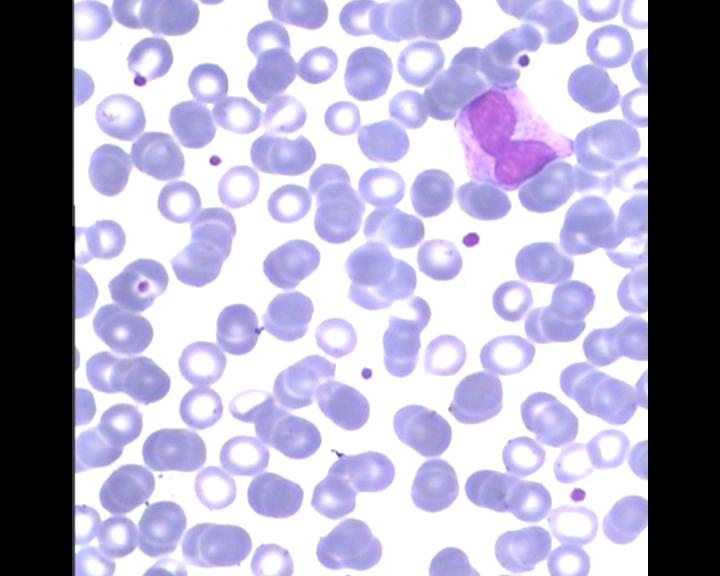mono: (451, 82, 577, 193)
